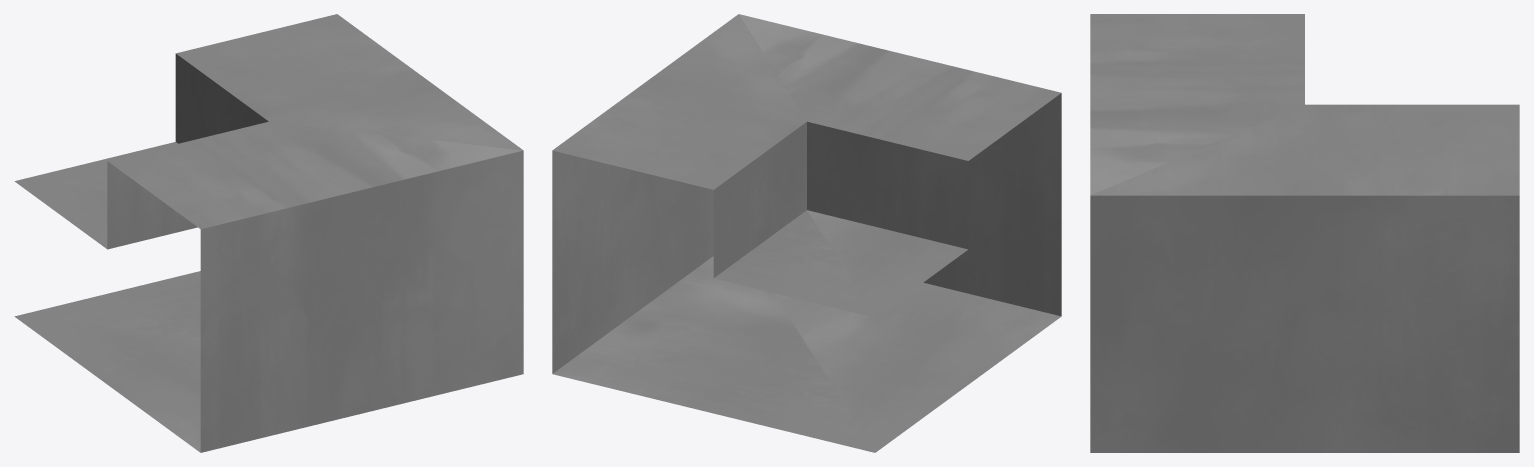
The model's file is Corner_Teto_A.fbx.
3 views of the same model, side by side, from view 1: azimuth 30°, elevation 25°; view 2: azimuth 150°, elevation 25°; view 3: azimuth 270°, elevation 25° (orthographic). The views are drawn at different scales.
Parts seen in each view (by area): view 1: Cube.066; view 2: Cube.066; view 3: Cube.066.
Part boxes in pixels (x1,y1,x2,y2): Cube.066: (14,14,523,452); Cube.066: (552,14,1061,452); Cube.066: (1090,14,1519,452).
Size of the model in its own units: 50 by 33.08 by 50.
